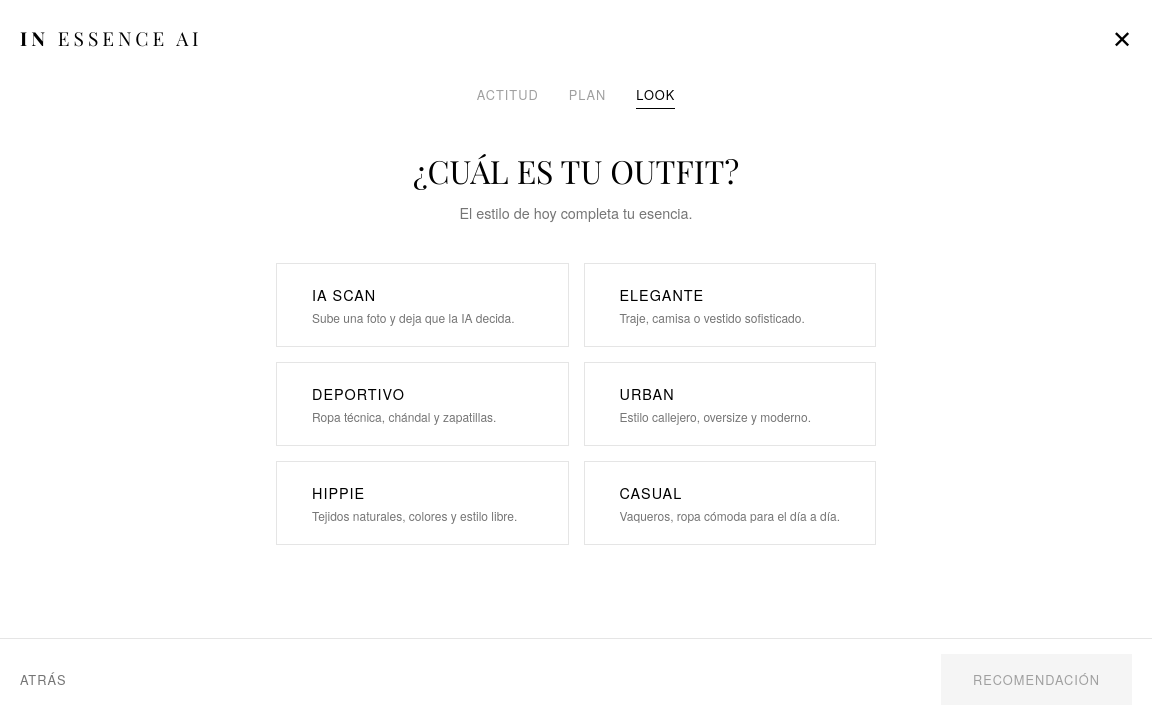
ViewLookAnalysis - Flujo Completo con Carrusel y Errores › Flujo Carrusel + Error 401 › muestra carrusel durante carga y luego error 401
Click the text "ELEGANTE" at (662, 294), box top-left (620, 284), bottom-right (704, 305)
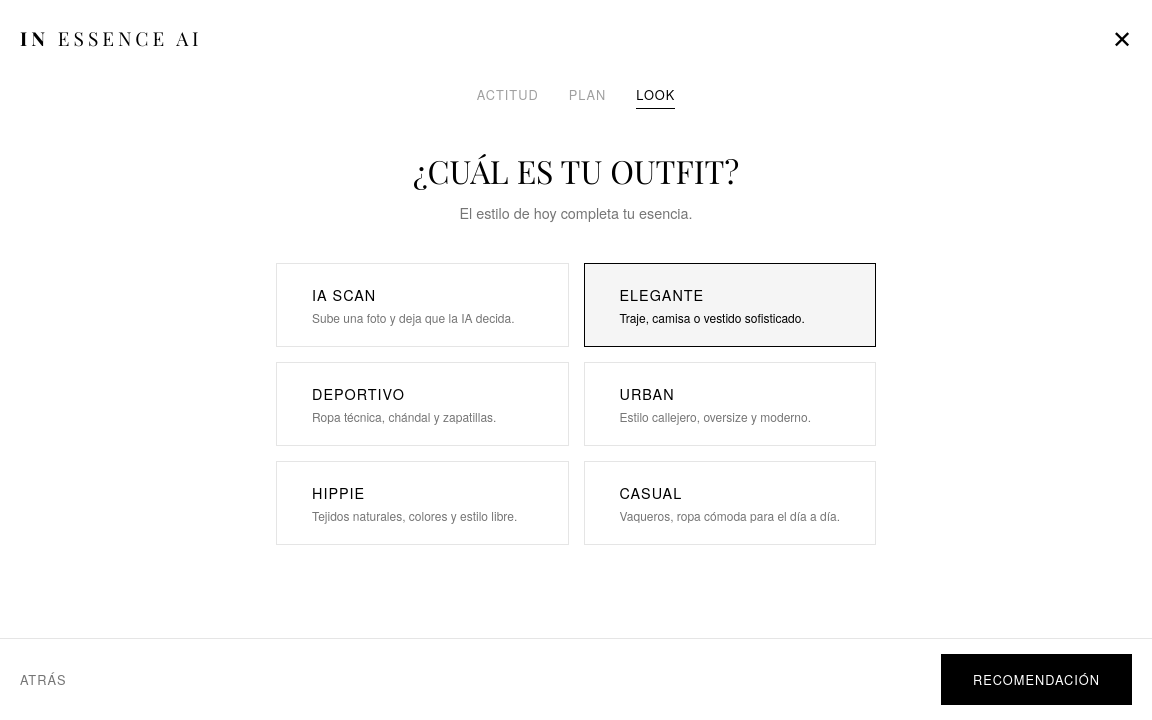
Click the button "RECOMENDACIÓN" at (1036, 680), box top-left (941, 654), bottom-right (1132, 705)
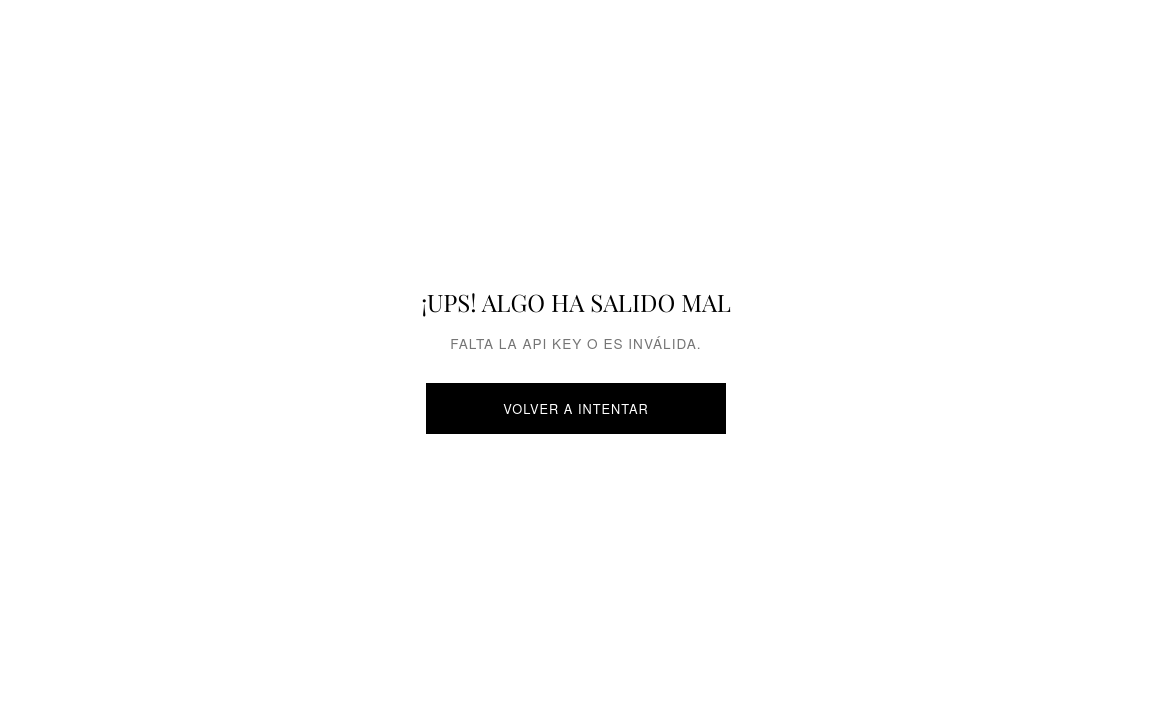
Now the heading "¡UPS! ALGO HA SALIDO MAL" is shown, box top-left (421, 286), bottom-right (731, 318)
Now the text "Falta la API Key o es inválida." is shown, box top-left (450, 333), bottom-right (702, 353)
